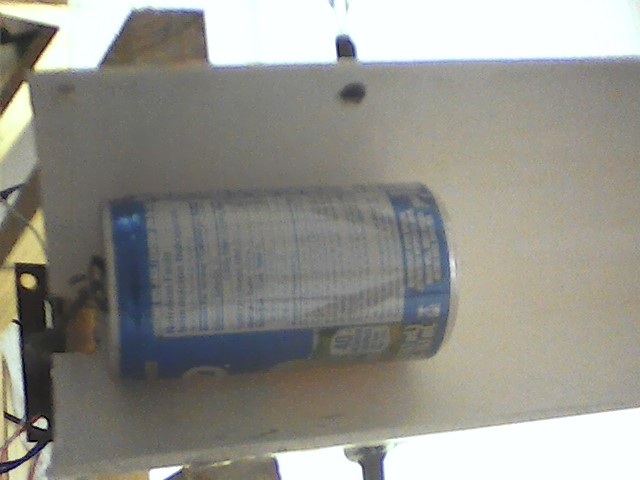lata: (92, 178, 466, 392)
